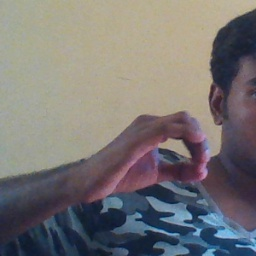O: (77, 104, 220, 203)
